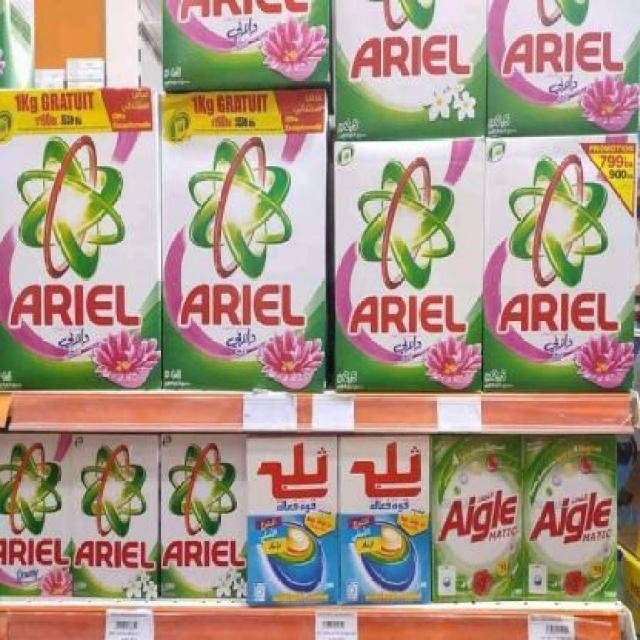Detergent: (162, 95, 329, 388), (0, 90, 163, 388), (486, 134, 632, 392), (333, 136, 478, 392), (334, 0, 487, 138), (486, 0, 639, 135), (155, 427, 248, 599), (70, 434, 162, 595), (0, 431, 75, 600)
